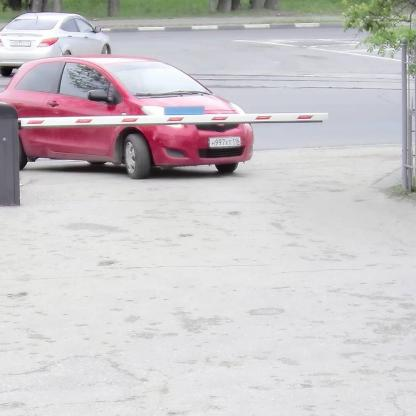plate: (210, 137, 240, 147), (10, 40, 30, 46)
